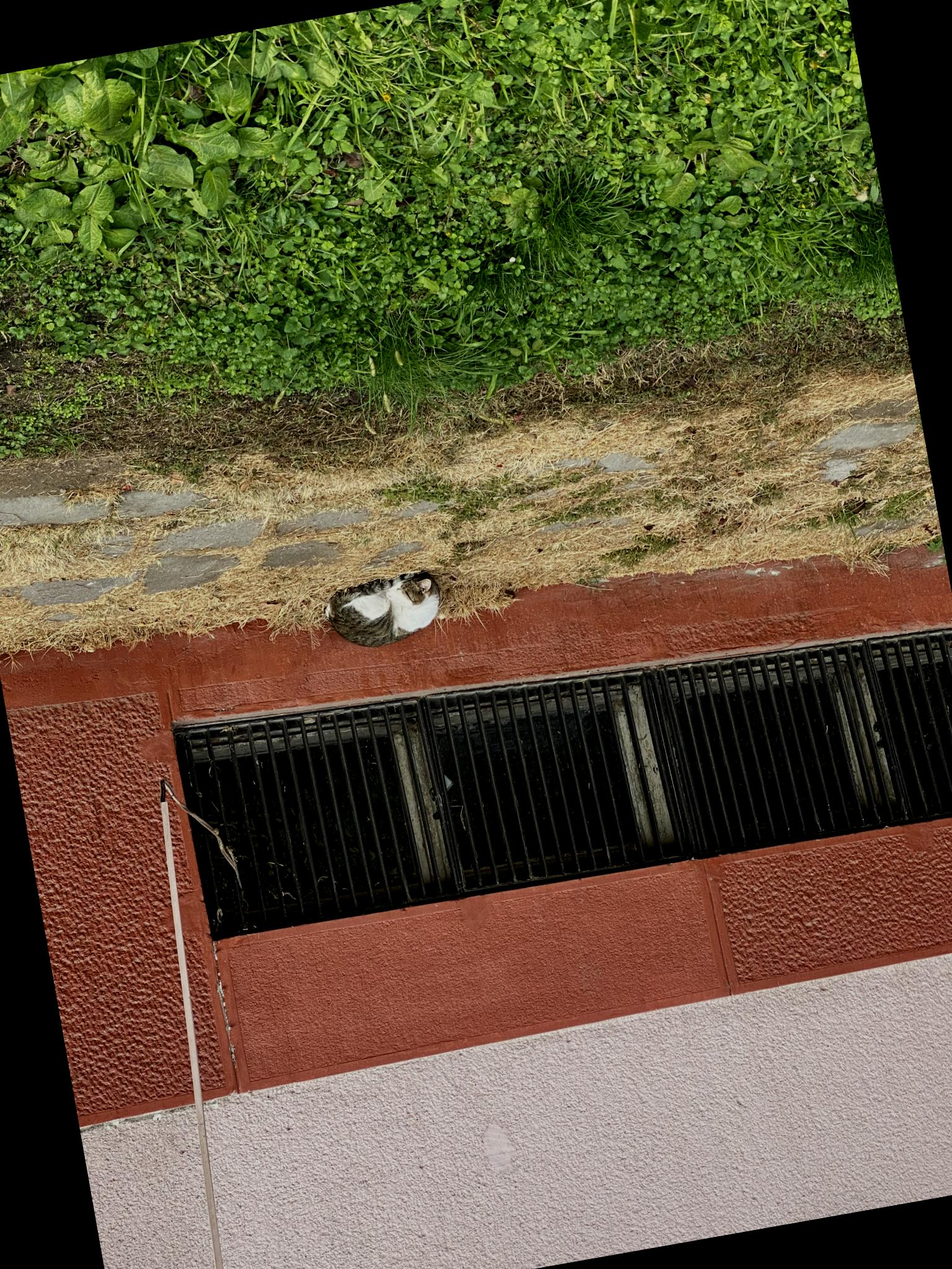macka: (318, 567, 447, 656)
